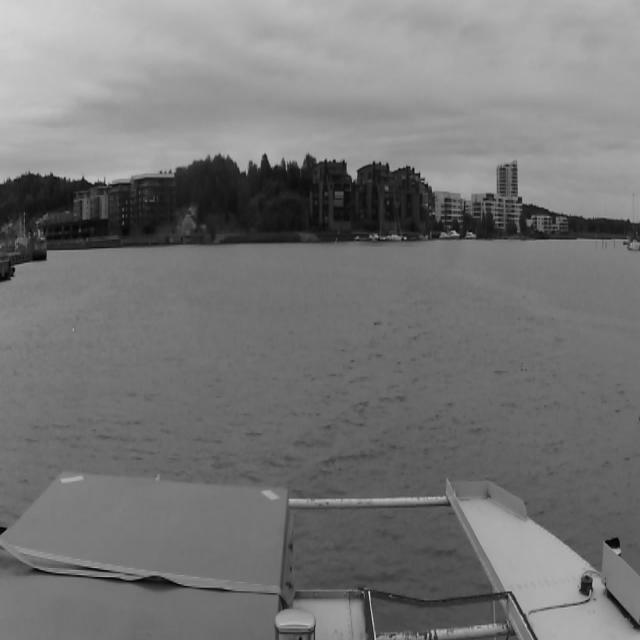ship: (379, 183, 399, 235)
